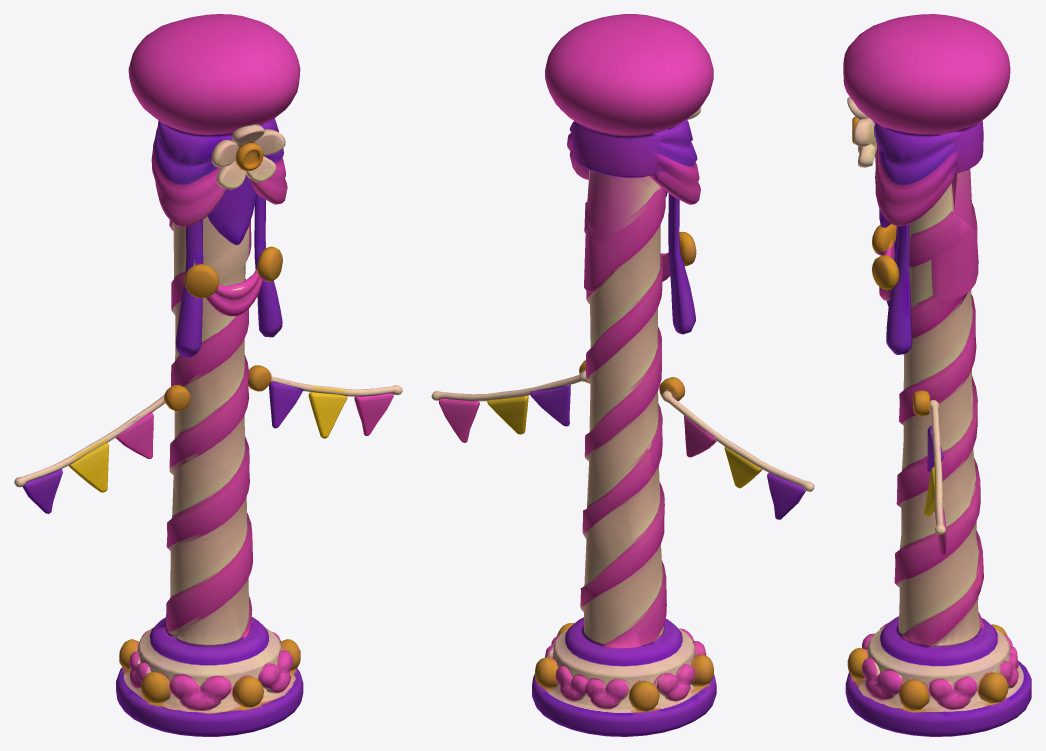
The model's file is dream-column.glb.
3 views of the same model, side by side, from view 1: azimuth 30°, elevation 25°; view 2: azimuth 150°, elevation 25°; view 3: azimuth 270°, elevation 25° (orthographic).
Visible parts, largest first — view 1: tripo_node_a5ca59ee-5b25-4e7c-860d-d543de3e66e7; view 2: tripo_node_a5ca59ee-5b25-4e7c-860d-d543de3e66e7; view 3: tripo_node_a5ca59ee-5b25-4e7c-860d-d543de3e66e7.
Part boxes in pixels (x1,y1,x2,y2): tripo_node_a5ca59ee-5b25-4e7c-860d-d543de3e66e7: (14,14,402,736); tripo_node_a5ca59ee-5b25-4e7c-860d-d543de3e66e7: (431,14,814,736); tripo_node_a5ca59ee-5b25-4e7c-860d-d543de3e66e7: (843,14,1031,736).
Size of the model in its own units: 0.5981 by 0.9995 by 0.2544.
1 material, 1 textured.
